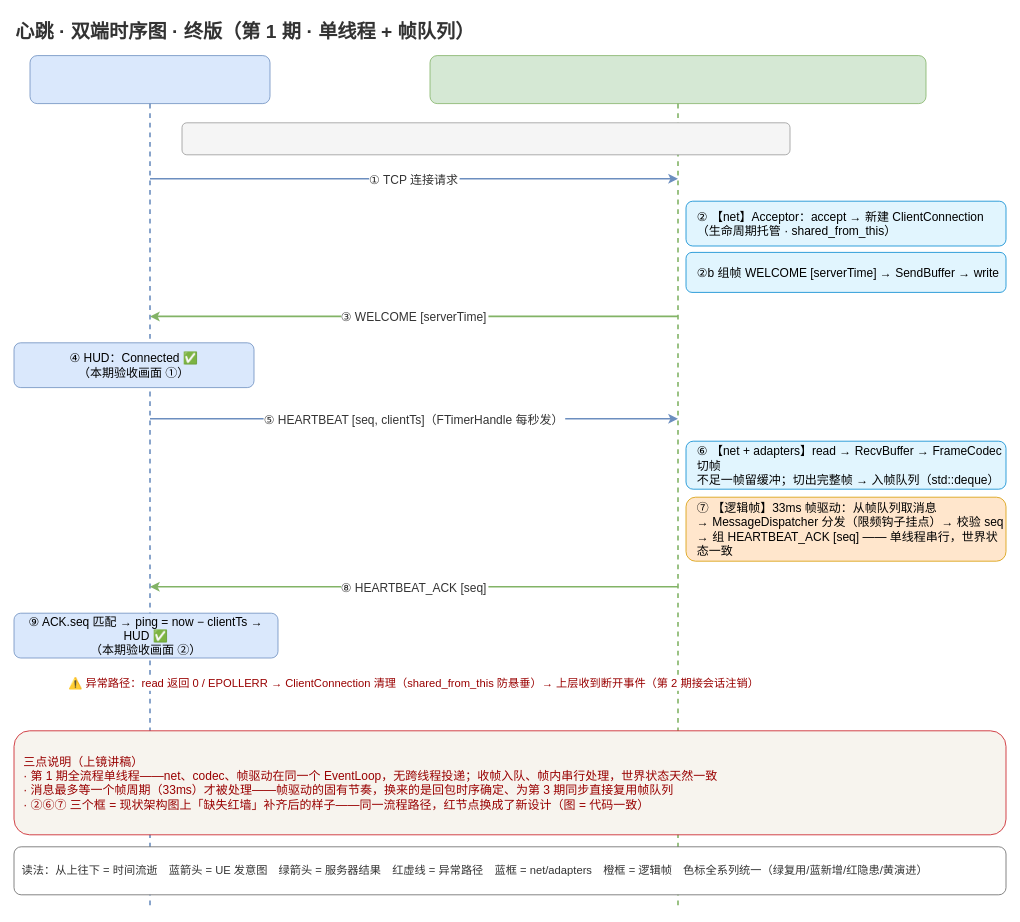
Some shapes in this 1020 by 922 pixel diagram are drawn without their labels. The centre of each missing label's shape, as x and y in pixels:
UE 客户端 USightlineGameInstance / FTimerHandle / HUD: point 149,79
前置（第 1 期前置步骤）：服务器已启动 · Acceptor 监听 8888 · 日志已装配 addSink · SIGPIPE 已处理: point 485,138
服务器主线程（单线程）：net 层 → FrameCodec → 帧队列 → 帧驱动处理: point 677,79
